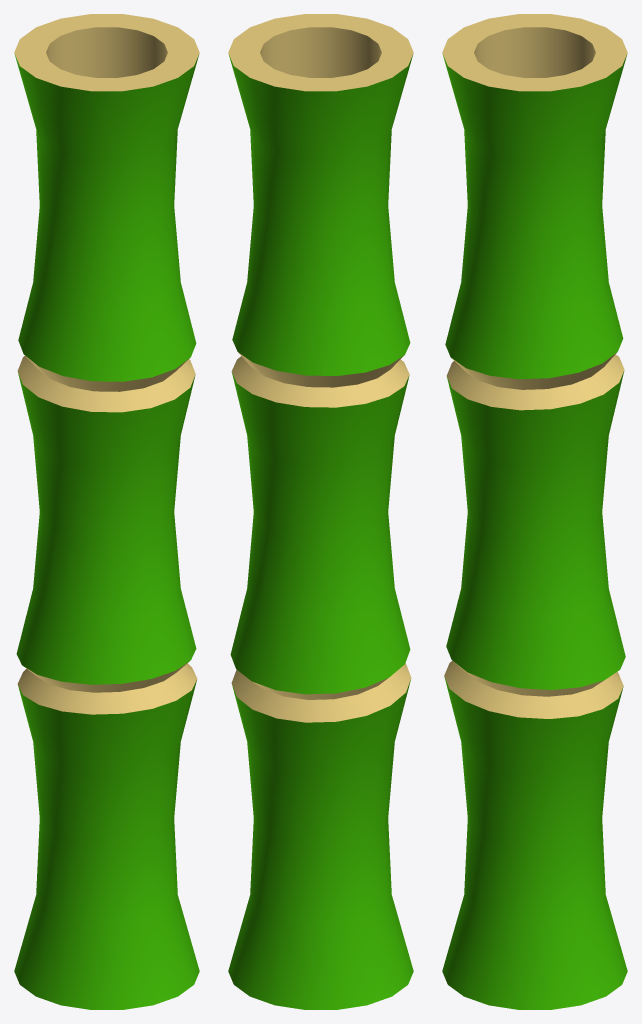
Rendered from TestBamboo.fbx.
3 renders of one model, left to right at view 1: azimuth 30°, elevation 25°; view 2: azimuth 150°, elevation 25°; view 3: azimuth 270°, elevation 25°, orthographic.
Parts seen in each view (by area): view 1: Cylinder; view 2: Cylinder; view 3: Cylinder.
Boxes of the visible parts, left/top/right/bottom form: Cylinder: left=14, top=14, right=199, bottom=1009; Cylinder: left=228, top=14, right=413, bottom=1009; Cylinder: left=442, top=14, right=627, bottom=1009.
Bounding box in the file's own units: 288 × 1600 × 293.
